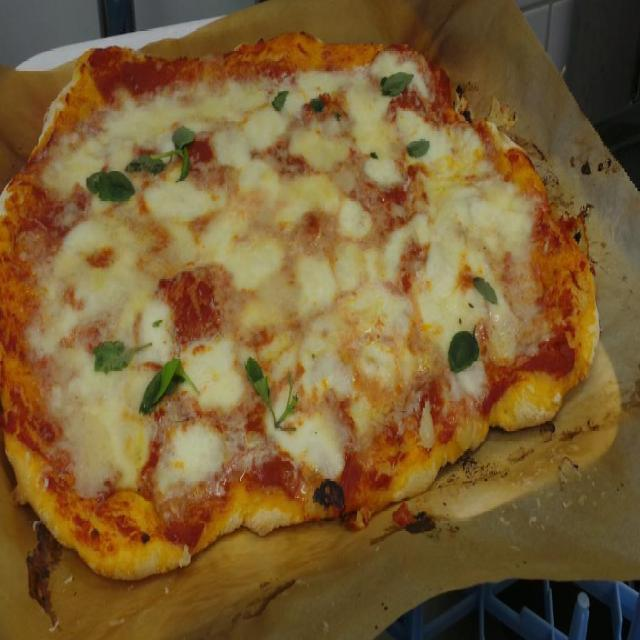Cheese: (22, 30, 546, 494)
